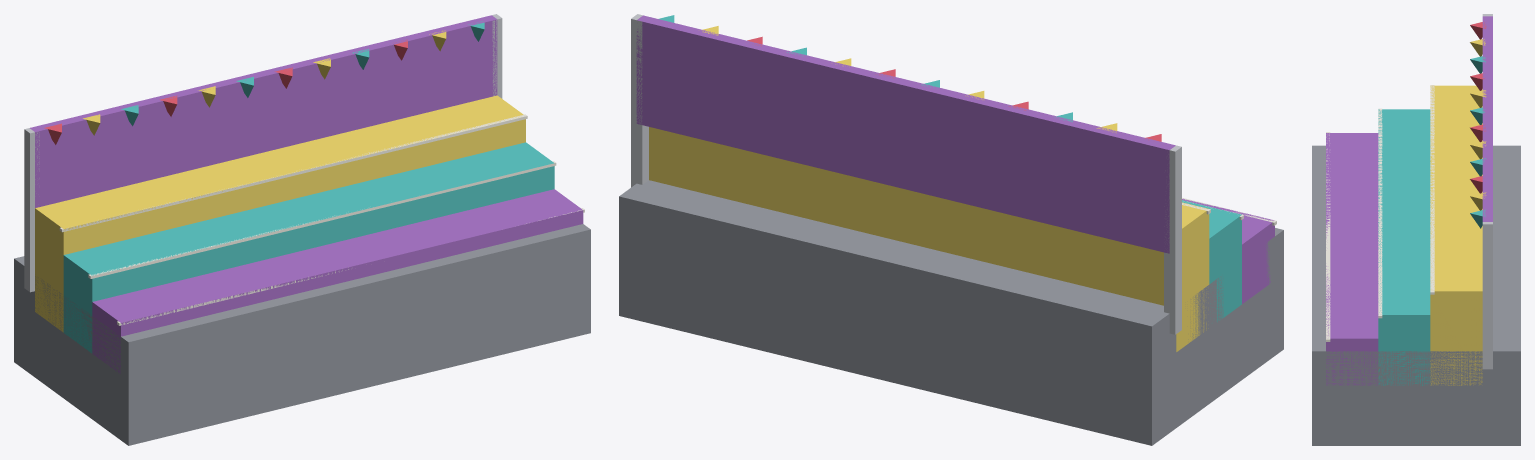
Rendered from arena_stands.glb.
The picture shows the model from 3 angles, left to right: view 1: azimuth 30°, elevation 25°; view 2: azimuth 150°, elevation 25°; view 3: azimuth 270°, elevation 25°; orthographic projection. The views are drawn at different scales.
Visible parts, largest first — view 1: arena_stands; view 2: arena_stands; view 3: arena_stands.
Part boxes in pixels (left/top/right/bottom): arena_stands: left=14, top=14, right=590, bottom=445; arena_stands: left=619, top=14, right=1283, bottom=445; arena_stands: left=1312, top=14, right=1520, bottom=445.
Bounding box in the file's own units: 14.3 × 7.1 × 6.
